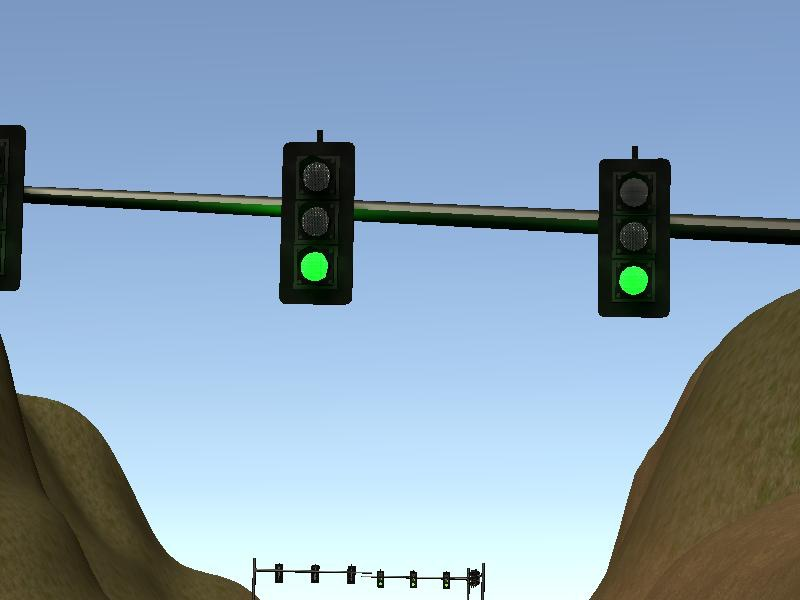Green: (274, 139, 358, 307), (595, 155, 673, 321), (407, 568, 418, 591), (440, 568, 451, 590), (376, 566, 386, 590)
